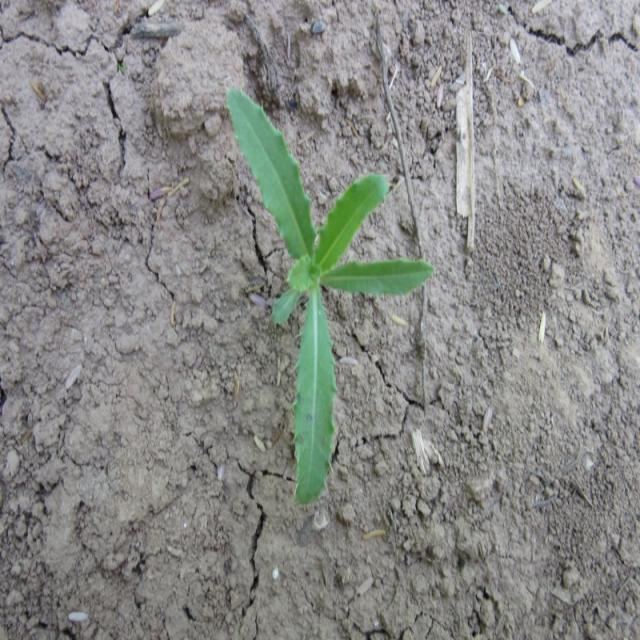field_thistle: (199, 82, 432, 515)
